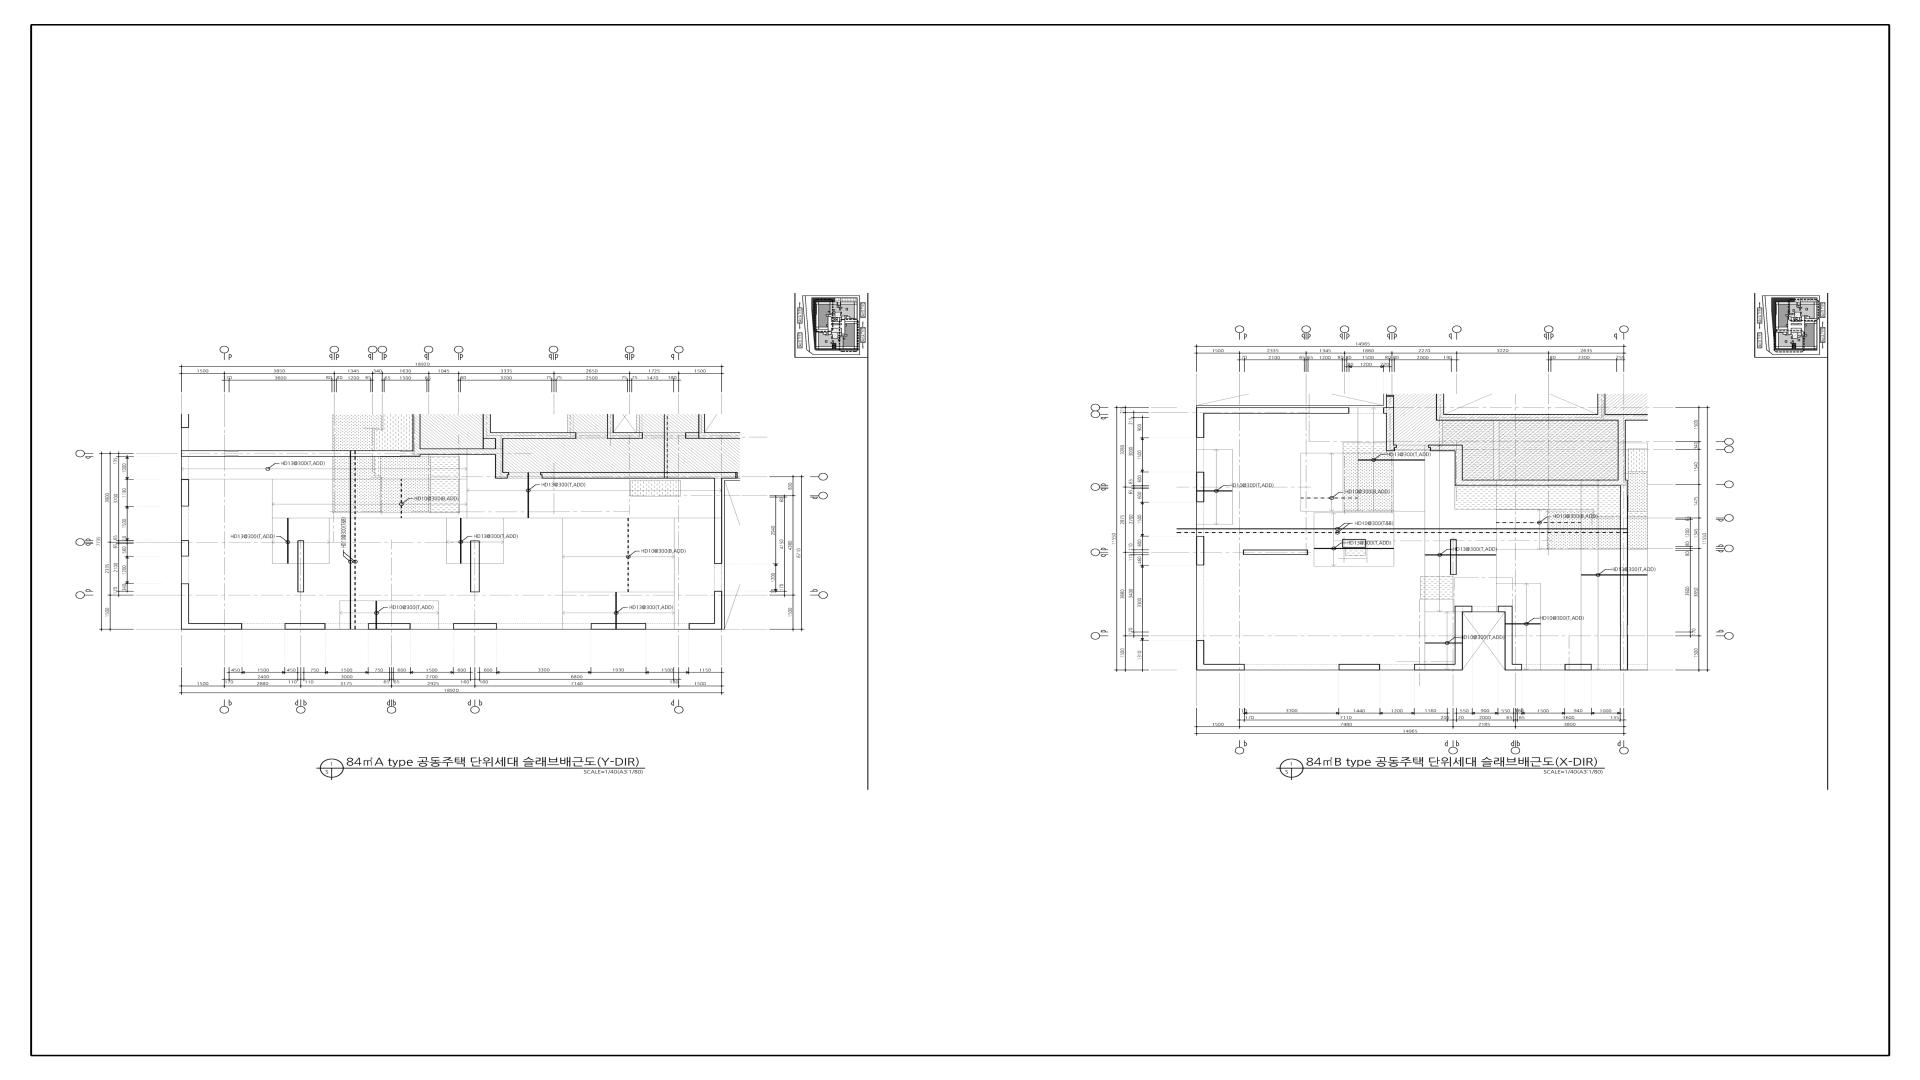wall: (1455, 421, 1628, 486), (181, 414, 421, 457), (1436, 394, 1648, 421), (1498, 606, 1522, 670), (1196, 640, 1245, 671), (1620, 486, 1628, 671), (540, 472, 738, 479), (689, 591, 722, 630), (1428, 445, 1463, 480), (1204, 407, 1349, 414), (1455, 606, 1472, 664), (607, 414, 643, 439), (1383, 395, 1397, 451), (714, 479, 722, 564), (491, 432, 576, 439), (470, 541, 480, 592), (421, 449, 503, 455), (685, 432, 740, 439), (591, 623, 646, 630), (189, 623, 242, 630), (181, 584, 189, 630), (297, 541, 304, 592), (495, 455, 509, 479), (1243, 550, 1308, 555), (453, 623, 497, 630), (368, 623, 411, 630), (1414, 664, 1463, 670), (285, 623, 325, 630), (1450, 539, 1457, 575), (1196, 407, 1204, 438), (1339, 664, 1380, 670), (1196, 472, 1204, 502), (1196, 536, 1204, 565), (181, 479, 189, 506), (483, 414, 491, 439), (1565, 664, 1592, 670), (1598, 394, 1605, 414), (181, 540, 189, 557), (699, 414, 705, 432), (495, 439, 503, 449)
